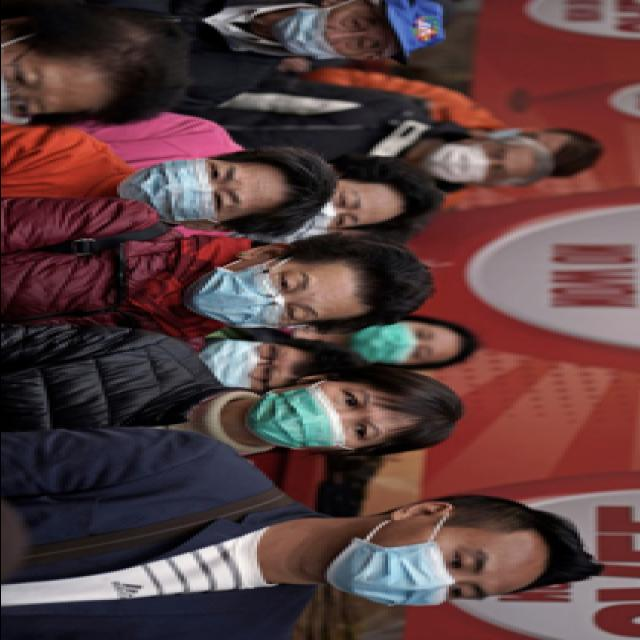mask: (326, 518, 496, 608), (244, 381, 387, 453), (186, 258, 329, 330), (116, 158, 250, 226), (198, 340, 298, 390), (353, 318, 445, 366), (427, 139, 515, 189)
no_mask: (274, 3, 387, 59)
